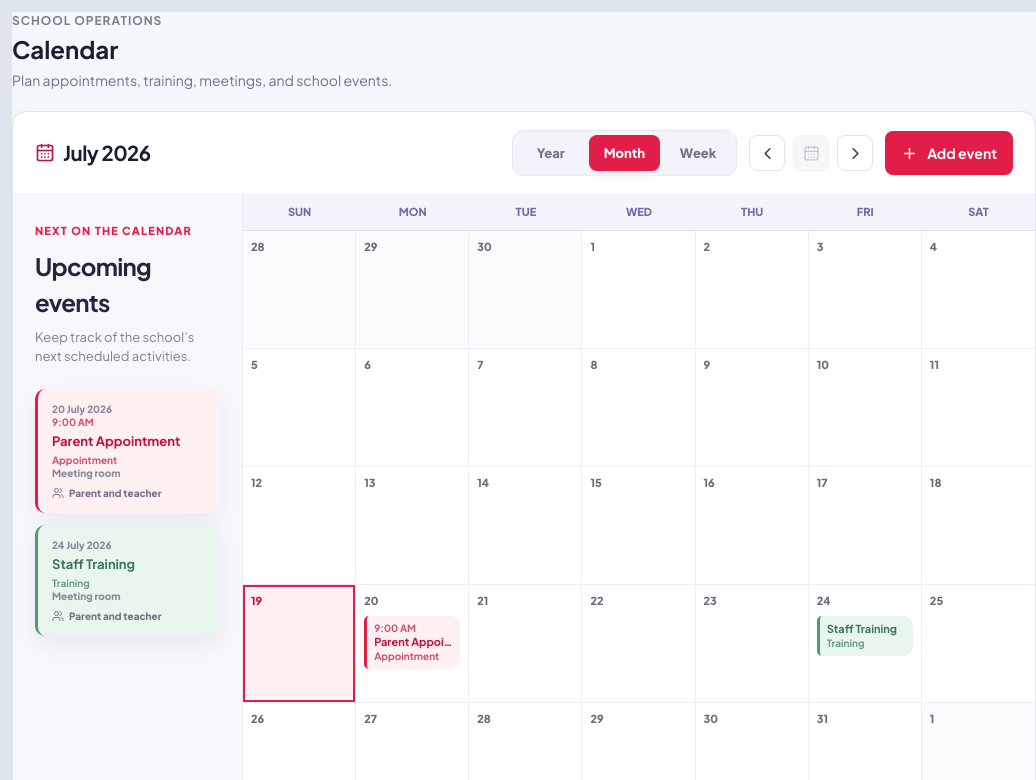
Test case: CalendarPage › navigates months and fetches the complete visible date range
Expected: the heading "July 2026" is shown, [63,141,151,166]
Click the button named "Next month" at x=855, y=154, box [837,136,873,172]
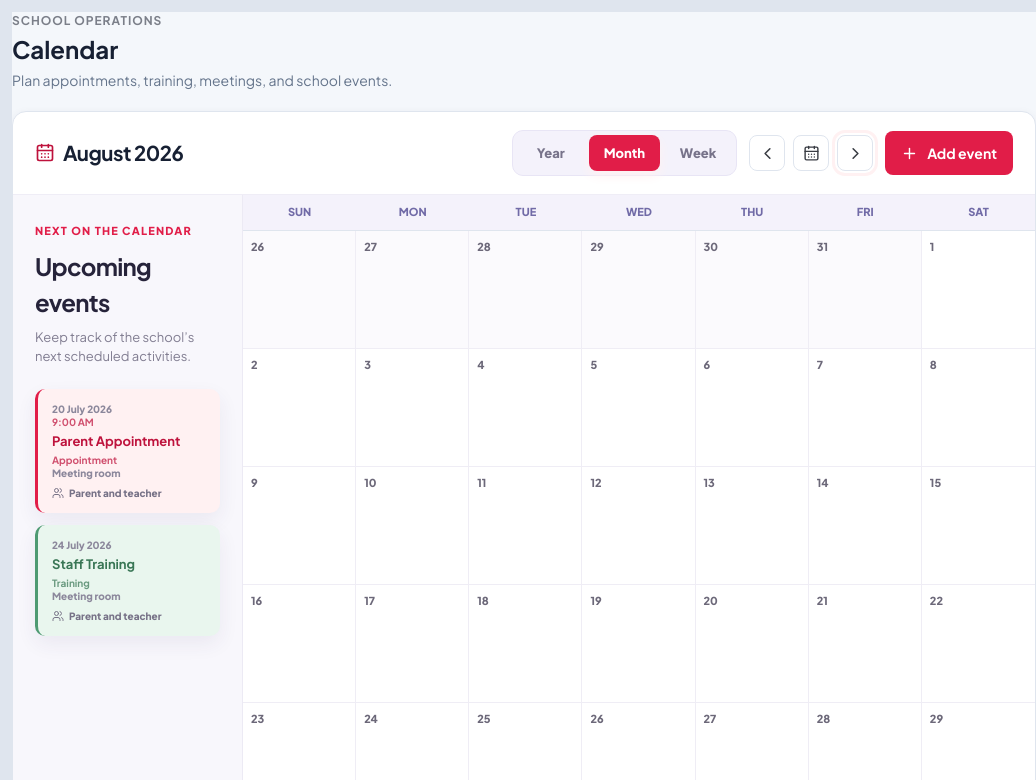
Expected: the heading "August 2026" is shown, [63,141,183,166]
